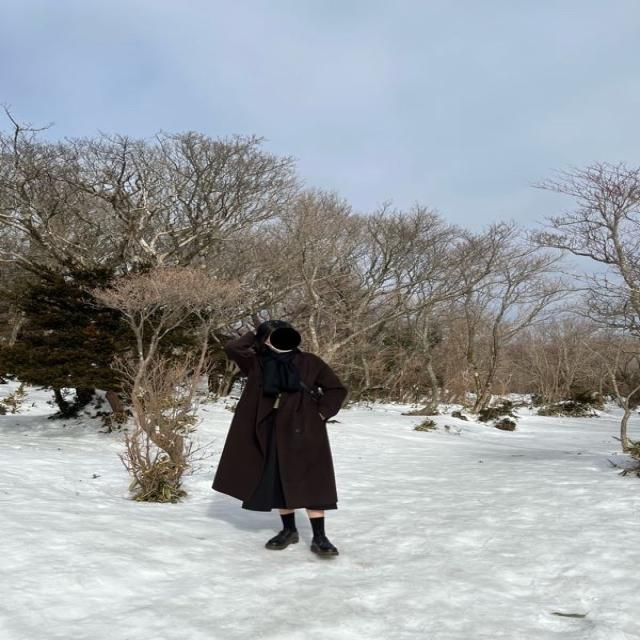coat: (221, 326, 343, 514)
